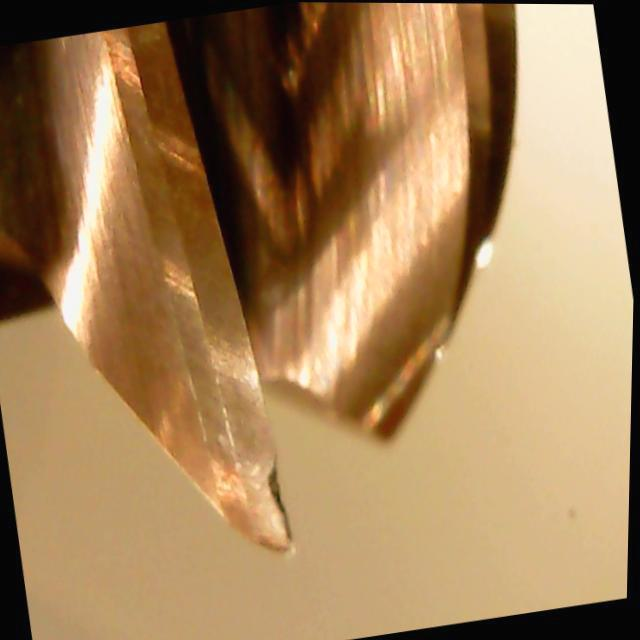Tool-wear-class-1: (172, 347, 315, 574)
